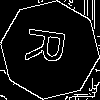R: (25, 25, 75, 67)
